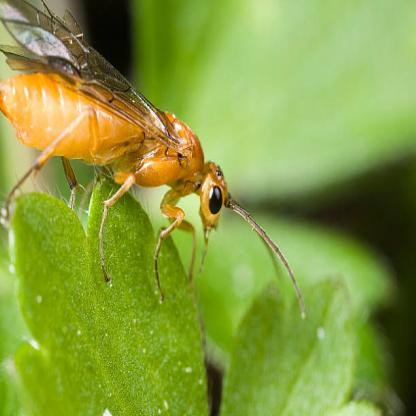sawfly: (2, 0, 305, 315)
